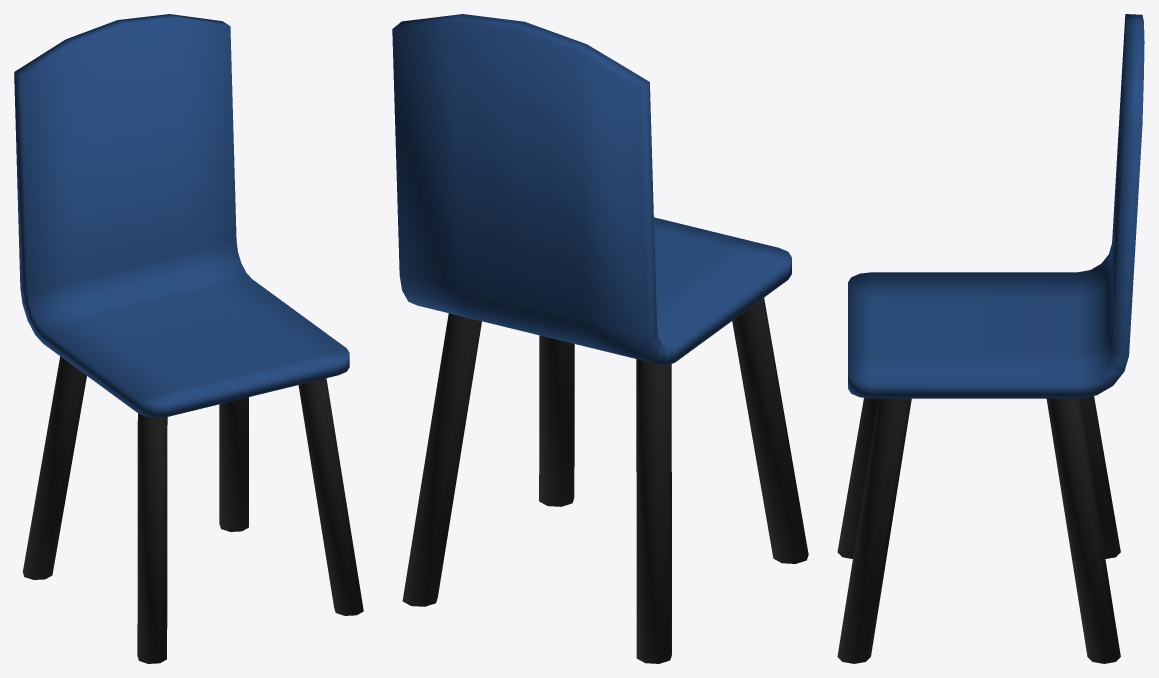
Rendered from Cadeira.fbx.
3 views of the same model, side by side, from view 1: azimuth 30°, elevation 25°; view 2: azimuth 150°, elevation 25°; view 3: azimuth 270°, elevation 25° (orthographic). The views are drawn at different scales.
Visible parts, largest first — view 1: Cilindro; view 2: Cilindro; view 3: Cilindro.
Part boxes in pixels (<box>): Cilindro: <box>14,14,363,663</box>; Cilindro: <box>392,14,808,663</box>; Cilindro: <box>837,14,1144,663</box>.
Size of the model in its own units: 74.91 by 166 by 81.84.
